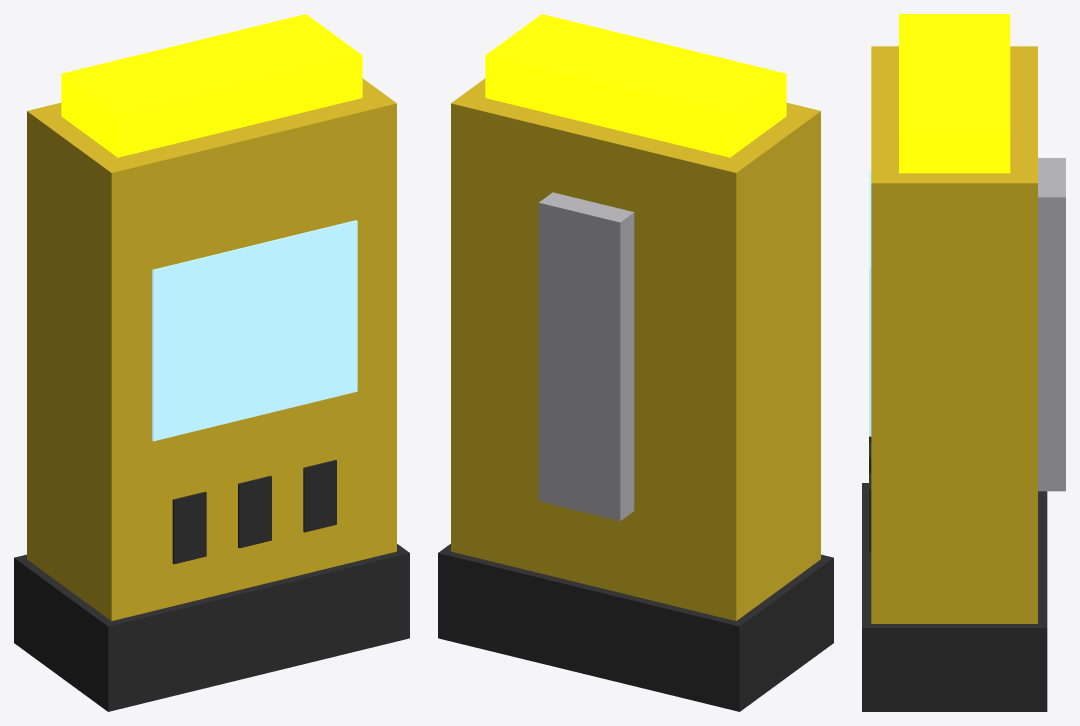
The model's file is SM_GasDetector_Portable.fbx.
3 views of the same model, side by side, from view 1: azimuth 30°, elevation 25°; view 2: azimuth 150°, elevation 25°; view 3: azimuth 270°, elevation 25° (orthographic).
Visible parts, largest first — view 1: GD_Portable; view 2: GD_Portable; view 3: GD_Portable.
Boxes of the visible parts, <box> form: GD_Portable: <box>14,14,409,711</box>; GD_Portable: <box>438,14,833,711</box>; GD_Portable: <box>862,14,1065,711</box>.
Size of the model in its own units: 7.4 by 13.5 by 4.4.
